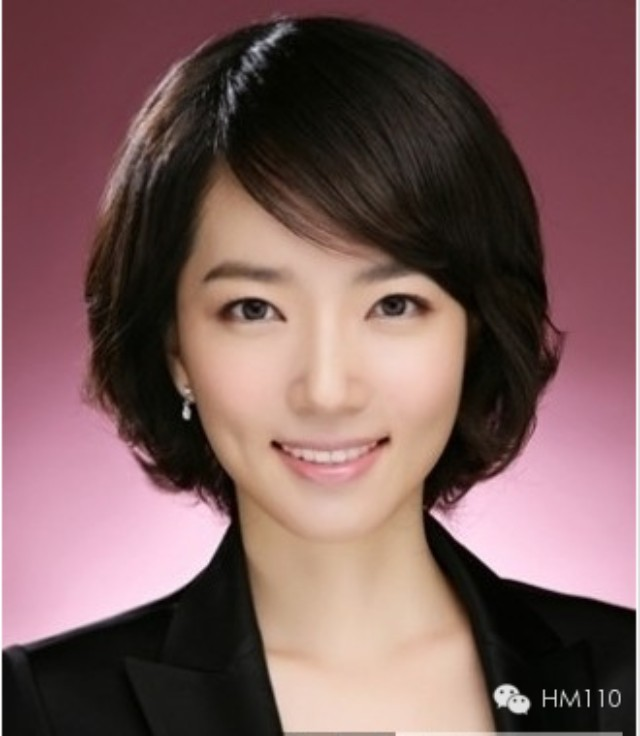unmask: (172, 153, 477, 531)
